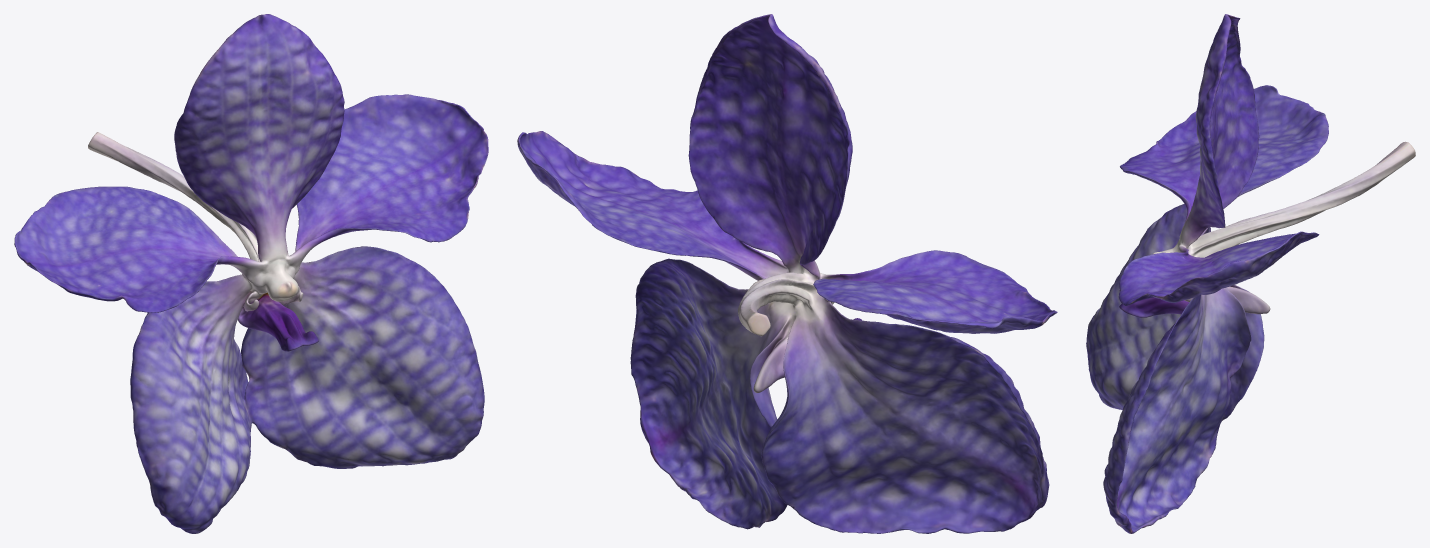
File: vanda-detail.glb
The picture shows the model from 3 angles, left to right: view 1: azimuth 30°, elevation 25°; view 2: azimuth 150°, elevation 25°; view 3: azimuth 270°, elevation 25°; orthographic projection. The views are drawn at different scales.
Bounding box in the file's own units: 0.0997 × 0.097 × 0.0631.
Materials: 1 (1 with a texture image).
